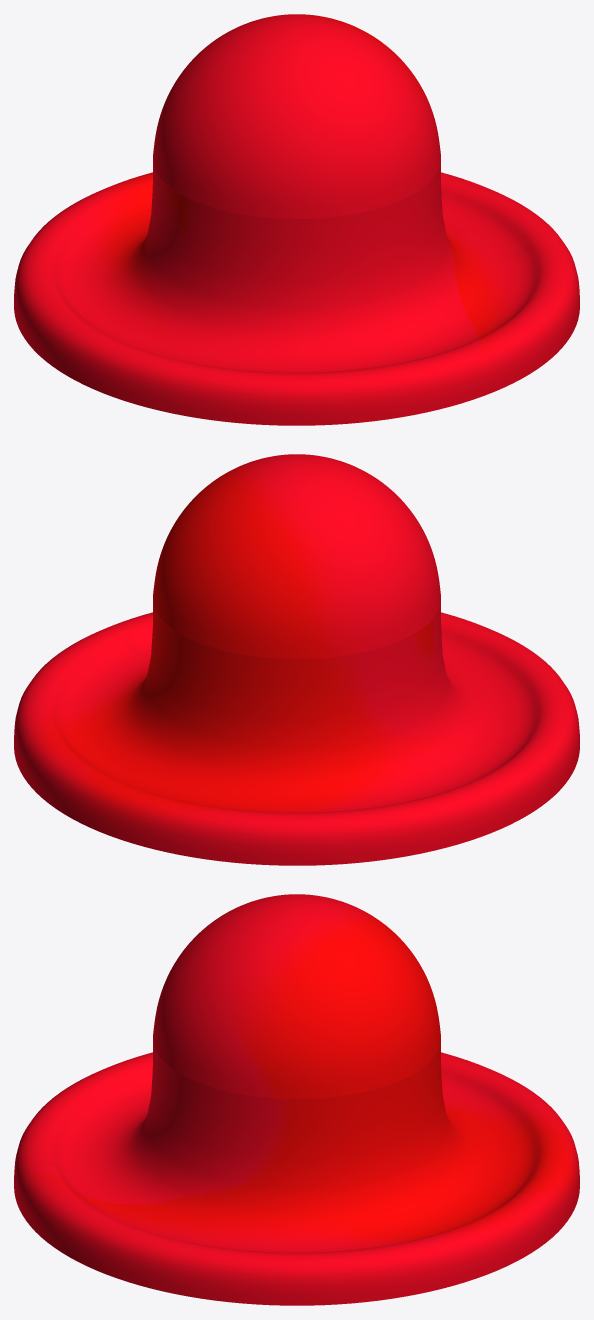
The model's file is red_paddle.obj.
The picture shows the model from 3 angles, top to bottom: view 1: azimuth 30°, elevation 25°; view 2: azimuth 150°, elevation 25°; view 3: azimuth 270°, elevation 25°; orthographic projection.
Parts seen in each view (by area): view 1: Circle; view 2: Circle; view 3: Circle.
Part boxes in pixels (x1,y1,x2,y2): Circle: [14, 14, 579, 425]; Circle: [14, 454, 579, 865]; Circle: [14, 894, 579, 1305].
Bounding box in the file's own units: 1.99 × 1.08 × 1.99.
